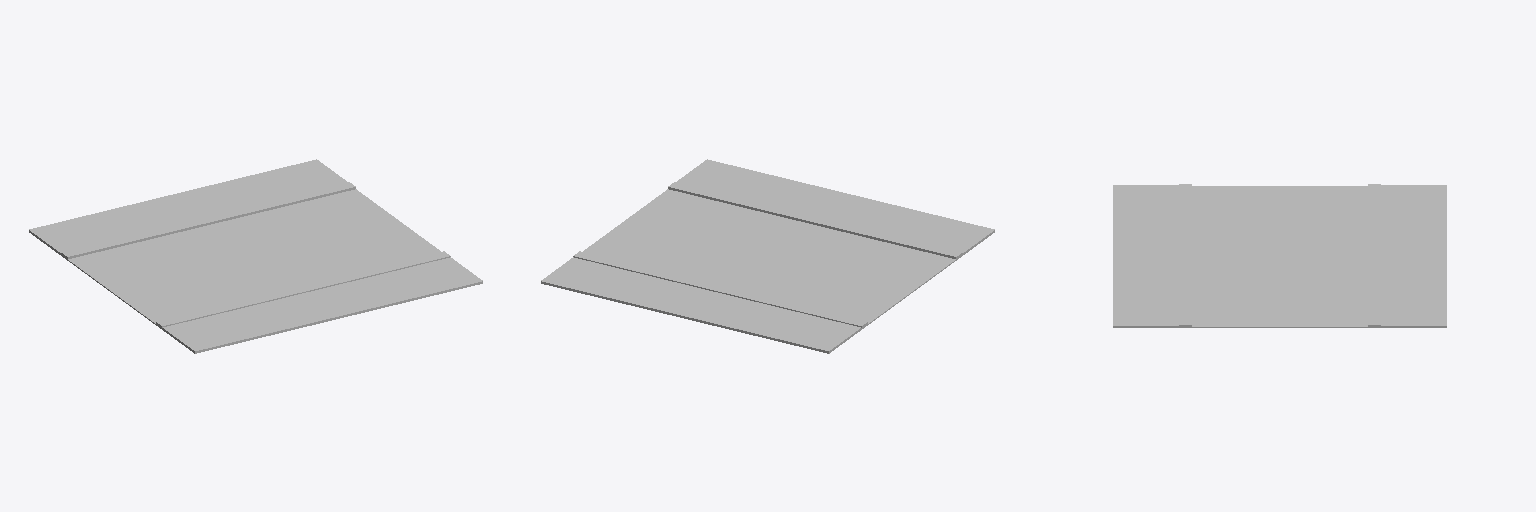
Rendered from calle linea continua.obj.
The picture shows the model from 3 angles: view 1: azimuth 30°, elevation 25°; view 2: azimuth 150°, elevation 25°; view 3: azimuth 270°, elevation 25°; orthographic projection.
Visible parts, largest first — view 1: object 1; view 2: object 1; view 3: object 1.
Boxes of the visible parts, box(x1,y1,x2,y2) form: object 1: box(29, 159, 482, 353); object 1: box(541, 159, 994, 353); object 1: box(1113, 184, 1446, 327).
Bounding box in the file's own units: 25.5 × 0.3 × 25.5.